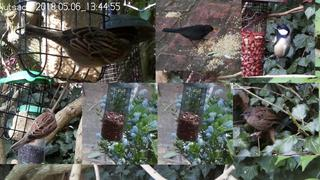blackbird: (162, 24, 218, 50)
dunnock: (239, 107, 295, 138)
great tit: (260, 24, 291, 63)
sparrow: (24, 24, 132, 74), (10, 107, 58, 153)
